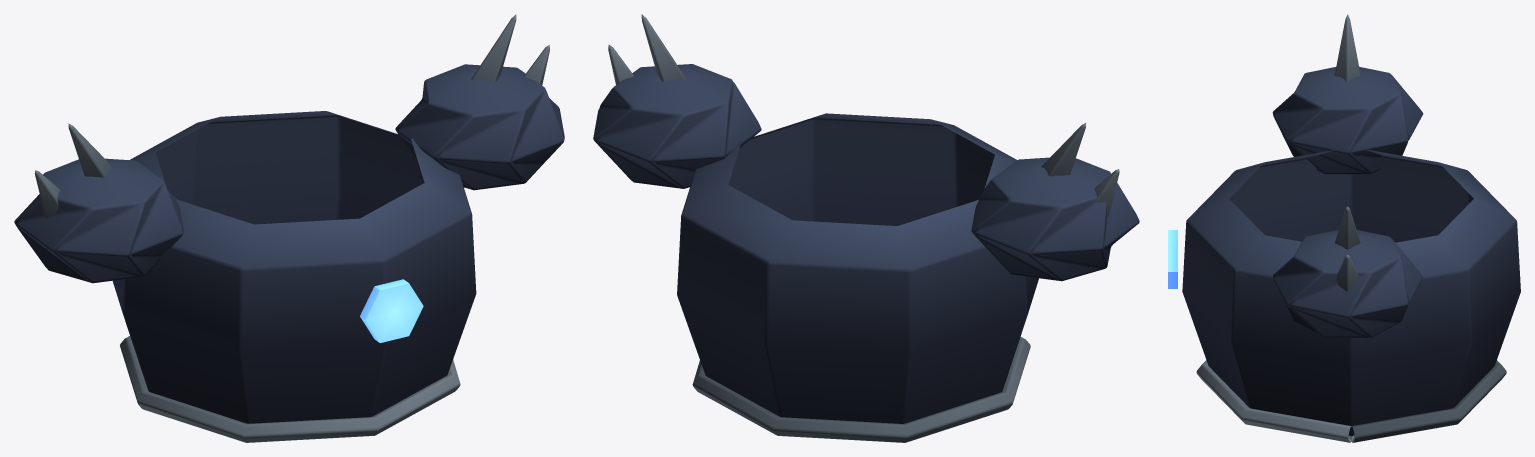
The model's file is abyssal_armor.glb.
3 renders of one model, left to right at view 1: azimuth 30°, elevation 25°; view 2: azimuth 150°, elevation 25°; view 3: azimuth 270°, elevation 25°, orthographic. The views are drawn at different scales.
Parts seen in each view (by area): view 1: abyssal_armor, abyssal_armor_glow; view 2: abyssal_armor; view 3: abyssal_armor, abyssal_armor_glow.
Boxes of the visible parts, x1=… form: abyssal_armor: x1=14, y1=14, x2=564, y2=442; abyssal_armor_glow: x1=360, y1=279, x2=423, y2=342; abyssal_armor: x1=593, y1=14, x2=1139, y2=442; abyssal_armor: x1=1182, y1=14, x2=1520, y2=442; abyssal_armor_glow: x1=1168, y1=230, x2=1177, y2=288.
Size of the model in its own units: 2.71 by 1.51 by 1.79.
